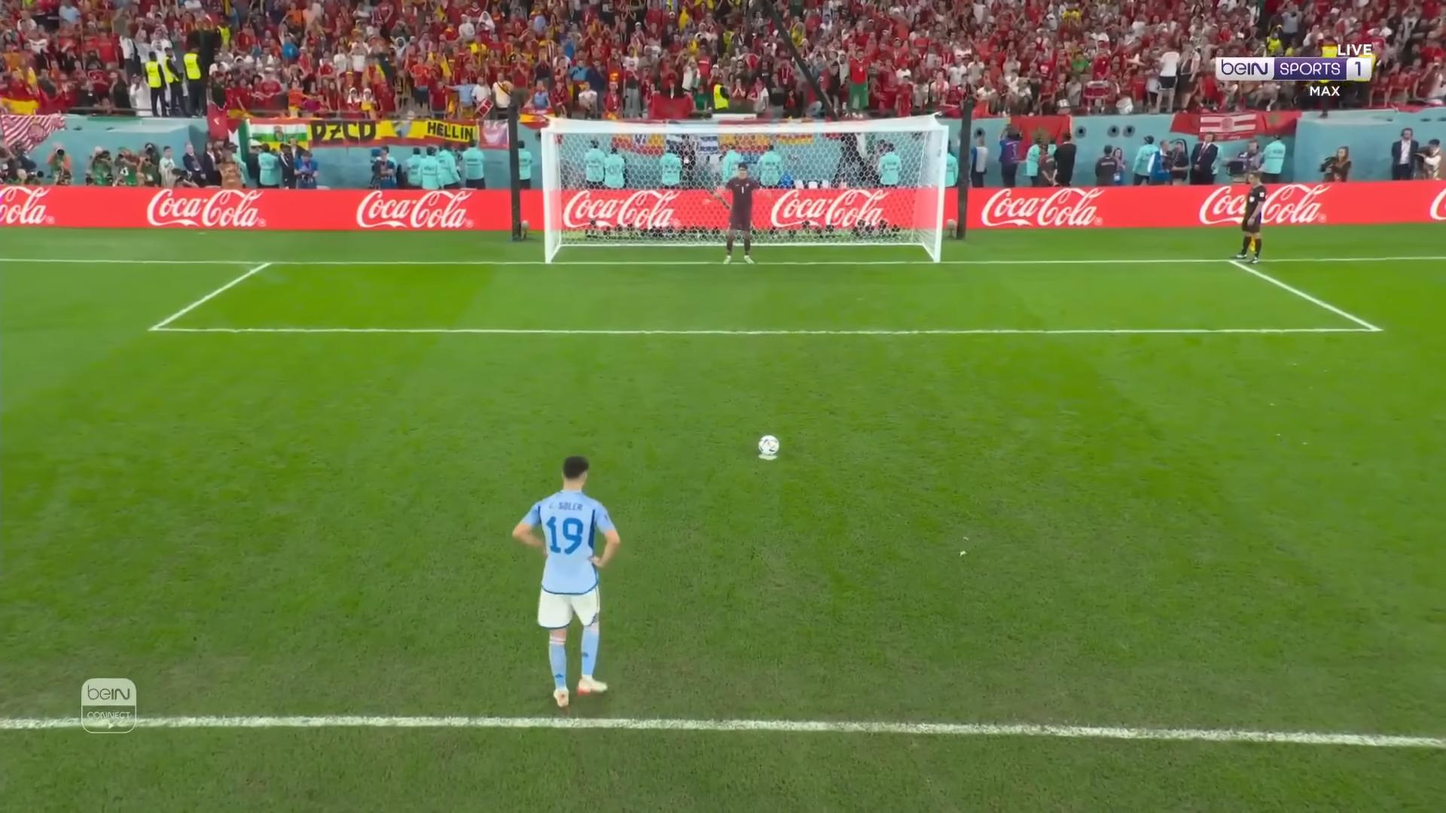Goalkeeper: (712, 161, 760, 265)
Player: (511, 454, 621, 707)
ball: (760, 435, 779, 459)
referee: (1234, 172, 1268, 261)
